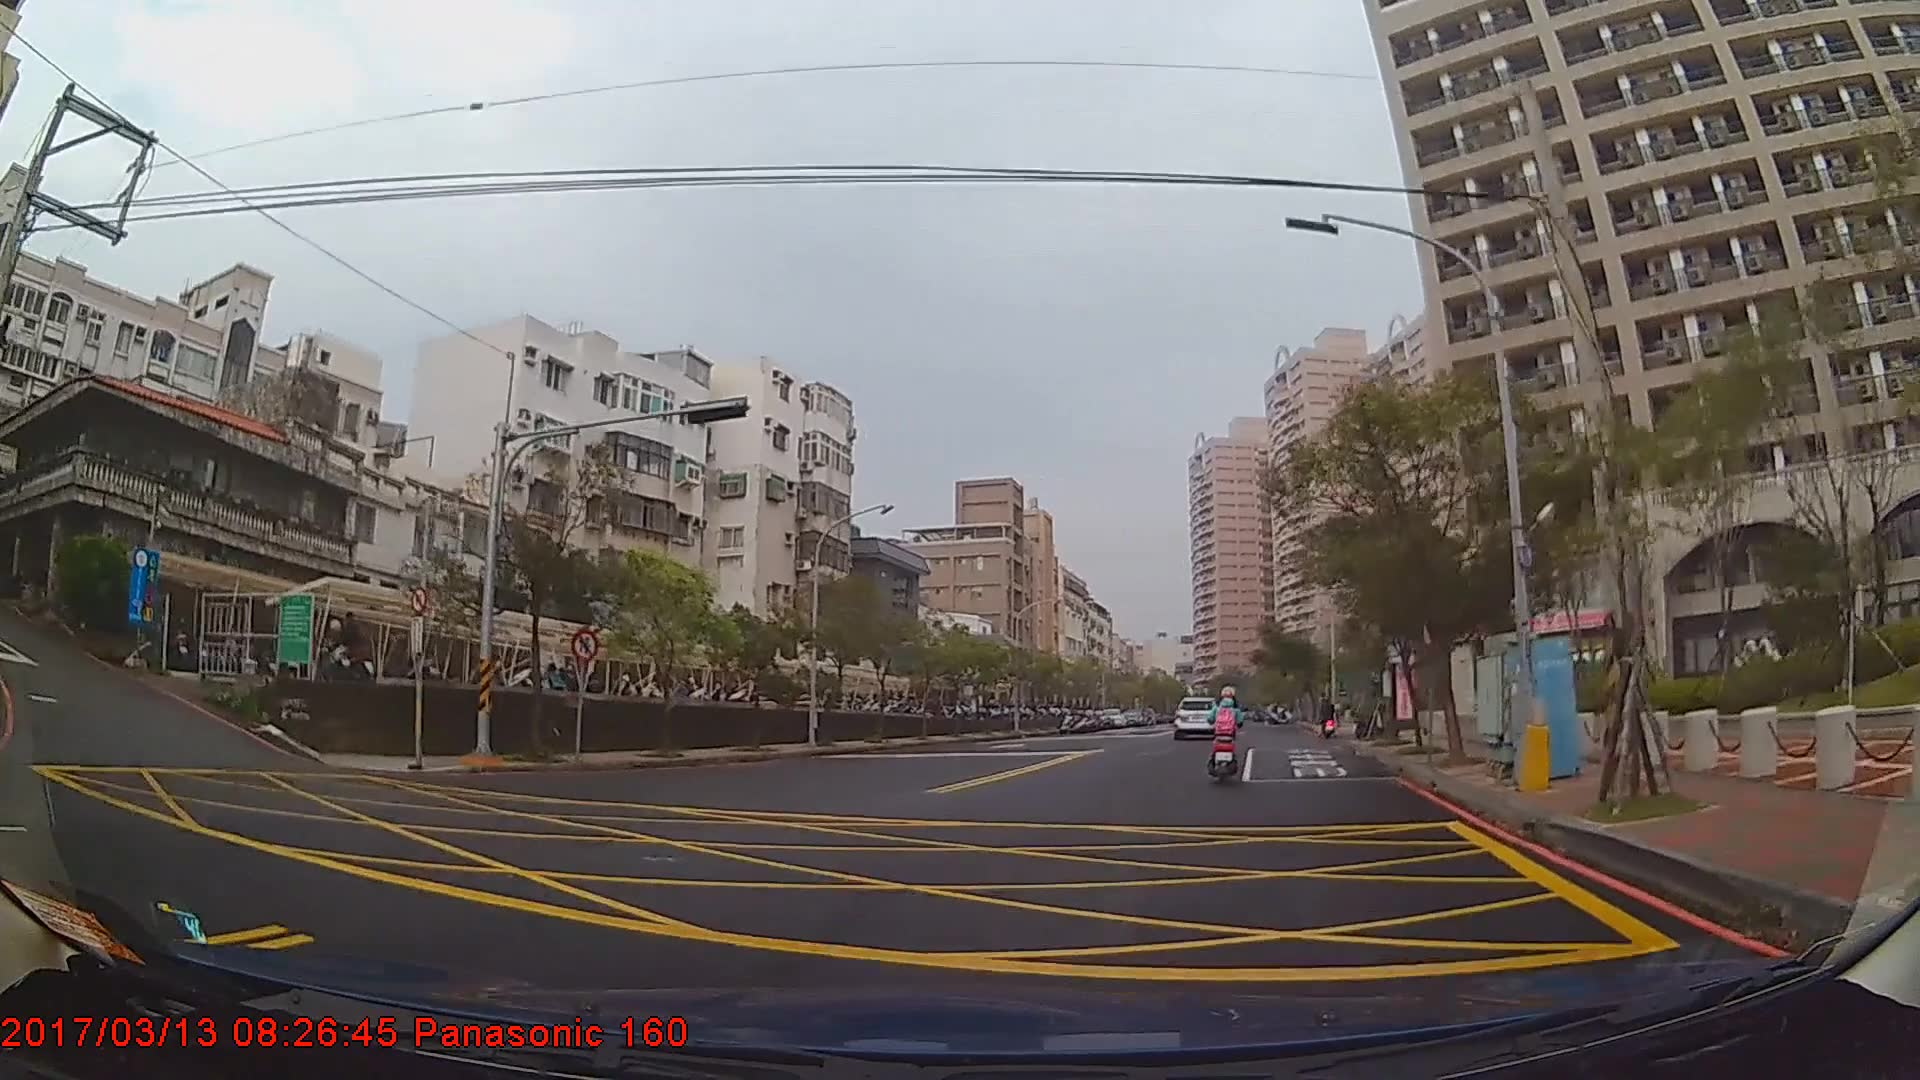rider: (1204, 682, 1249, 783)
vehicle: (1173, 692, 1218, 737)
